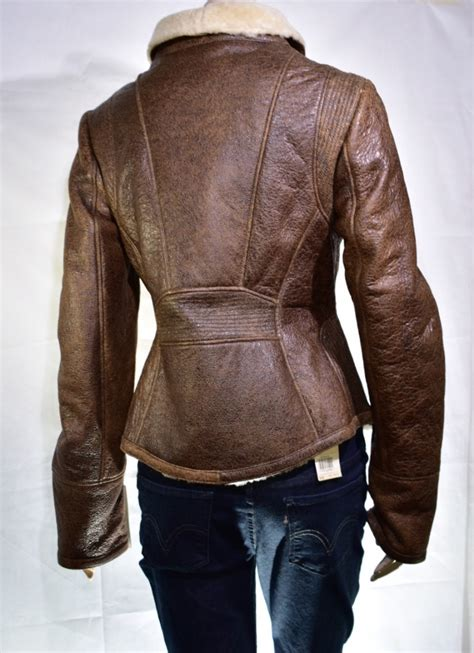cuero: (49, 31, 448, 572)
